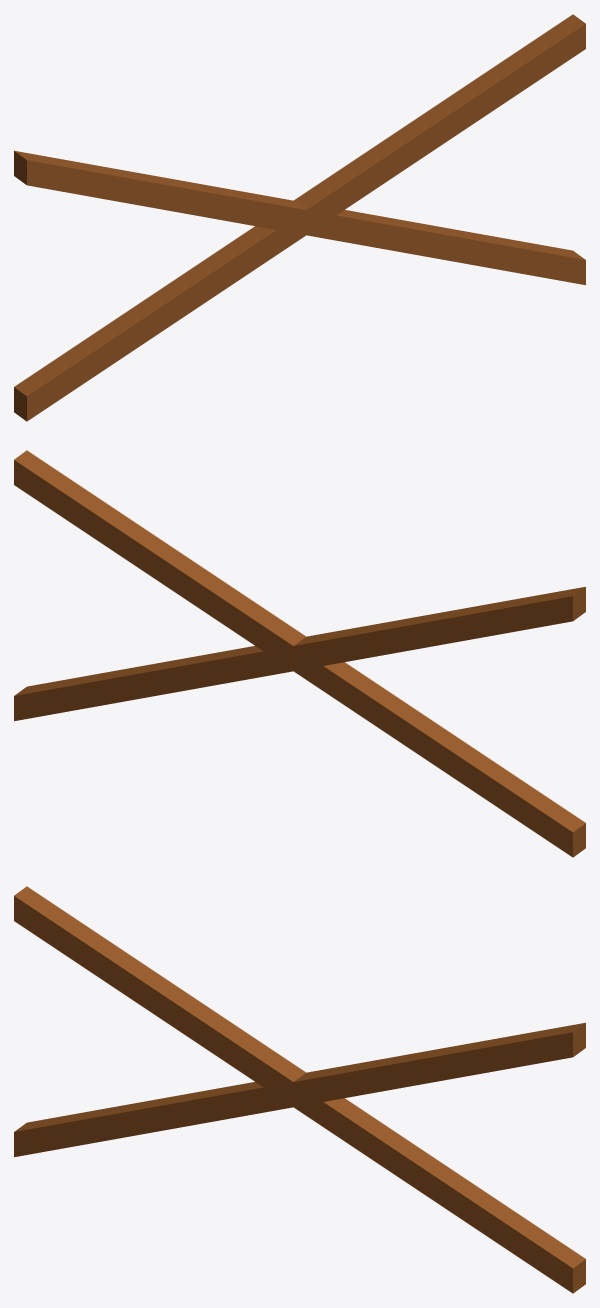
The model's file is Building_Modular_Jetty_Walkway_Timber_Cross_Beam_01.fbx.
The picture shows the model from 3 angles, top to bottom: view 1: azimuth 30°, elevation 25°; view 2: azimuth 150°, elevation 25°; view 3: azimuth 330°, elevation 25°; orthographic projection.
Visible parts, largest first — view 1: Building_Modular_Jetty_Walkway_Timber_Cross_Beam_01; view 2: Building_Modular_Jetty_Walkway_Timber_Cross_Beam_01; view 3: Building_Modular_Jetty_Walkway_Timber_Cross_Beam_01.
Boxes of the visible parts, x1,y1,x2,y2 form: Building_Modular_Jetty_Walkway_Timber_Cross_Beam_01: (14,14,585,421); Building_Modular_Jetty_Walkway_Timber_Cross_Beam_01: (14,450,585,857); Building_Modular_Jetty_Walkway_Timber_Cross_Beam_01: (14,886,585,1293).
Size of the model in its own units: 4768 by 2132 by 191.
